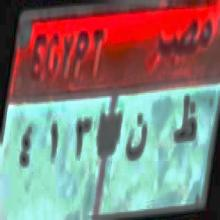1: (46, 113, 64, 170)
3: (68, 109, 97, 169)
4: (14, 120, 38, 180)
Thaa: (174, 93, 202, 154)
noon: (124, 107, 152, 182)
